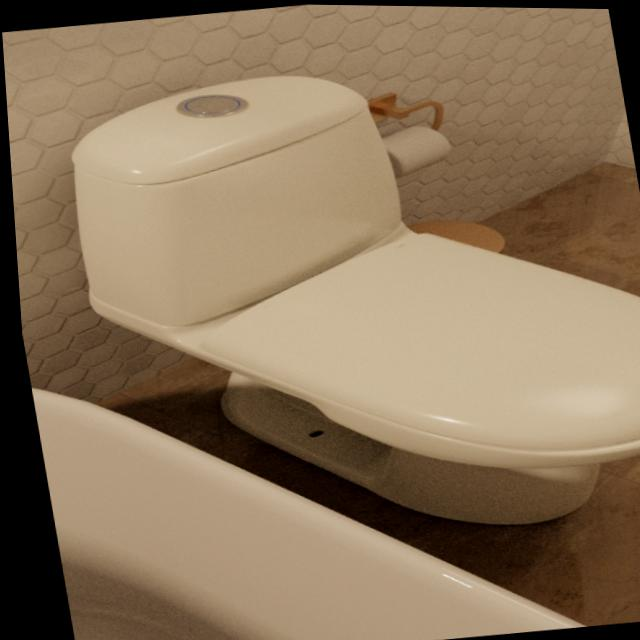toilet: (48, 35, 640, 565)
